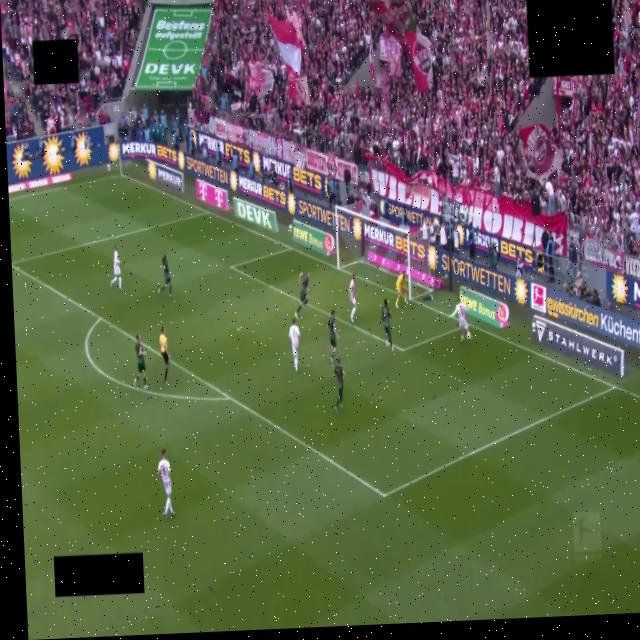ball: (467, 332, 471, 339)
player: (158, 450, 174, 516), (450, 302, 471, 339), (134, 334, 148, 389), (295, 272, 310, 319), (381, 299, 394, 352), (289, 319, 300, 372), (158, 255, 171, 296), (328, 310, 338, 363), (334, 359, 344, 411), (395, 271, 408, 308), (111, 245, 121, 290), (349, 274, 356, 323)
referee: (159, 328, 169, 384)
